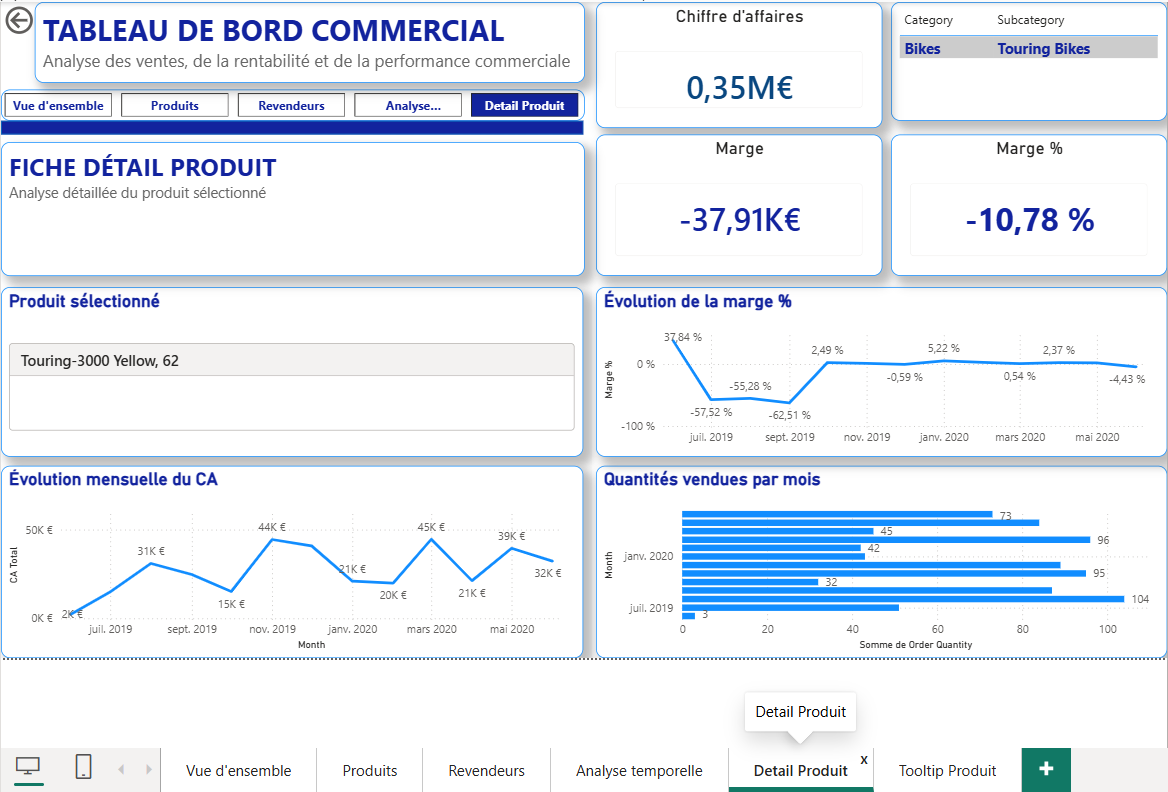

The page's visual inventory and layout, read from the dashboard file:
{"tool":"powerbi","page":{"name":"Detail Produit","canvas":[1280,720],"ordinal":4},"visuals":[{"type":"actionButton","box":[0,0,100,40],"z":0},{"type":"cardVisual","title":"Produit sélectionné","fields":{"Rows":["Product_data.Product"]},"box":[0,312.9,639.5,186.6],"z":4000},{"type":"tableEx","fields":{"Values":["Product_data.Category","Product_data.Subcategory"]},"box":[977,0,303.3,130.4],"z":5000},{"type":"lineChart","title":"Évolution mensuelle du CA","fields":{"Category":["Date_data.Month"],"Y":["Mesures.CA Total"]},"box":[0,509.1,639.5,211.3],"z":6000},{"type":"clusteredBarChart","title":"Quantités vendues par mois","fields":{"Category":["Date_data.Month"],"Y":["Sum(Sales_data.Order Quantity)"]},"box":[653.2,509.1,627.1,211.3],"z":7000},{"type":"lineChart","title":"Évolution de la marge %","fields":{"Category":["Date_data.Month"],"Y":["Mesures.Marge %"]},"box":[653.2,312.9,627.1,186.6],"z":8000},{"type":"cardVisual","title":"Chiffre d''affaires","fields":{"Data":["Mesures.CA Total"]},"box":[653.2,0,314.2,138.6],"z":9001},{"type":"cardVisual","title":"Marge","fields":{"Data":["Mesures.Marge"]},"box":[653.2,145.5,314.2,155.1],"z":9002},{"type":"cardVisual","title":"Marge %","fields":{"Data":["Mesures.Marge %"]},"box":[977,145.5,303.3,155.1],"z":9003},{"type":"pageNavigator","box":[0,96.1,640.8,34.3],"z":9004},{"type":"textbox","box":[37,0,603.8,89.2],"z":9005},{"type":"shape","box":[0,130.4,639.5,15.1],"z":9006},{"type":"textbox","box":[0,153.7,640.8,146.8],"z":9007}]}

Visuals, with their boxes on the page's 1280x720 design canvas (x1, y1, x2, y2). These are canvas units, not pixel positions in the 1168x792 screenshot, which may show the page scaled, cropped or inside an application window:
actionButton: bbox(0, 0, 100, 40)
"Produit sélectionné" cardVisual: bbox(0, 313, 640, 500)
tableEx - Product_data.Category x Product_data.Subcategory: bbox(977, 0, 1280, 130)
"Évolution mensuelle du CA" lineChart: bbox(0, 509, 640, 720)
"Quantités vendues par mois" clusteredBarChart: bbox(653, 509, 1280, 720)
"Évolution de la marge %" lineChart: bbox(653, 313, 1280, 500)
"Chiffre d''affaires" cardVisual: bbox(653, 0, 967, 139)
"Marge" cardVisual: bbox(653, 146, 967, 301)
"Marge %" cardVisual: bbox(977, 146, 1280, 301)
pageNavigator: bbox(0, 96, 641, 130)
textbox: bbox(37, 0, 641, 89)
shape: bbox(0, 130, 640, 146)
textbox: bbox(0, 154, 641, 300)
